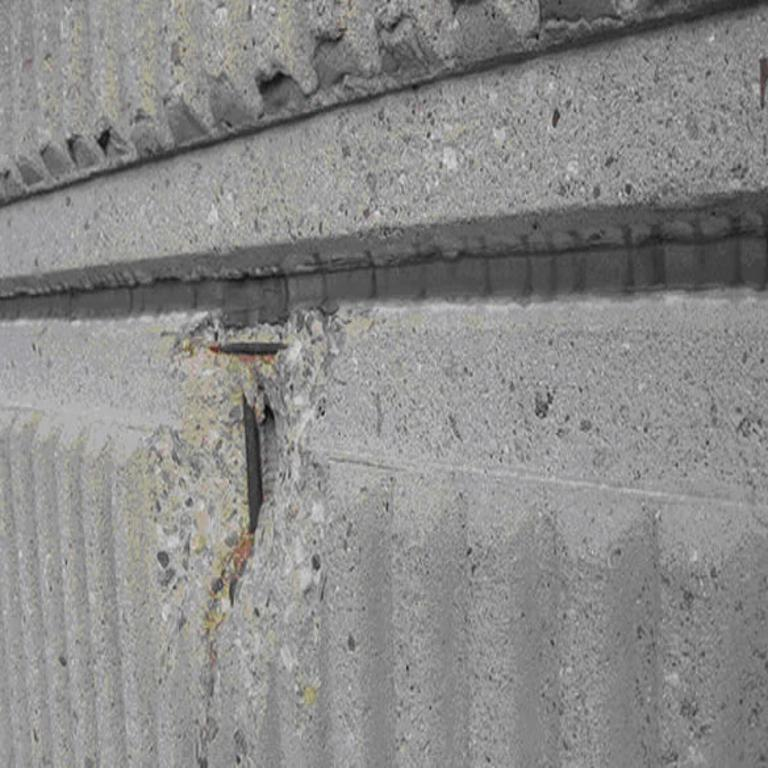exposed_rebar: (244, 398, 262, 533), (210, 342, 286, 355)
spalling: (141, 310, 346, 767)
